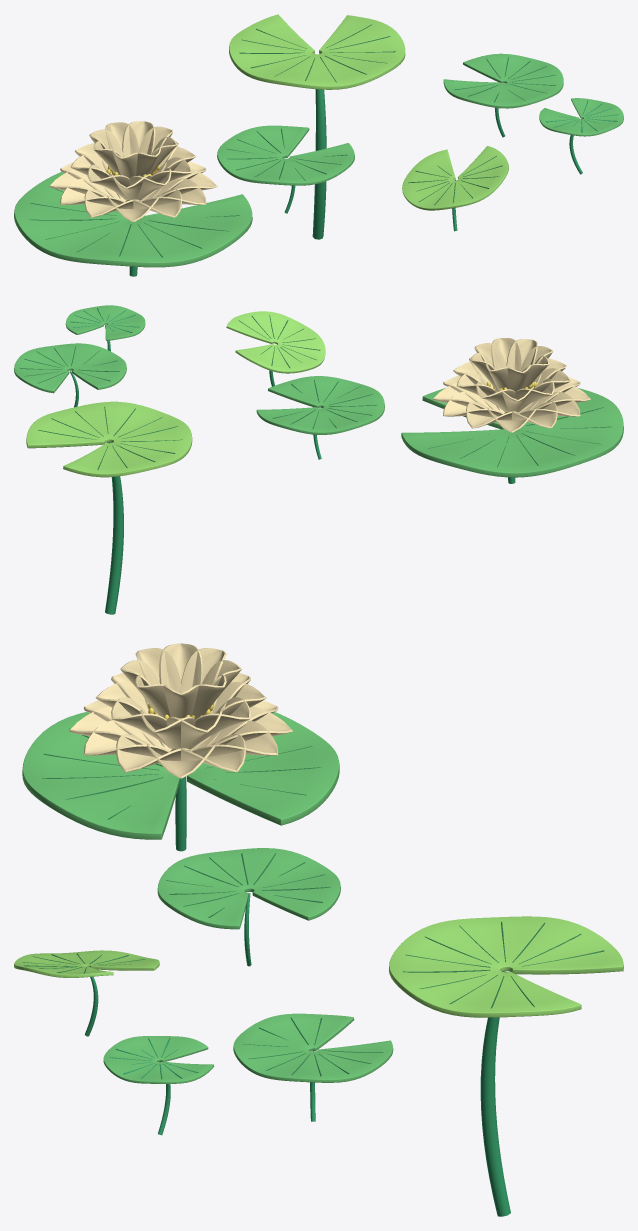
Rendered from 01_lotus_and_lilypads_004.glb.
3 renders of one model, top to bottom at view 1: azimuth 30°, elevation 25°; view 2: azimuth 150°, elevation 25°; view 3: azimuth 270°, elevation 25°, orthographic. The views are drawn at different scales.
Visible parts, largest first — view 1: LotusPad.006, LilyPad_02.004, LilyPad_01.009, LilyPad_03.004, LilyPad_04.007, LilyPad_05.005, PadStem_02.004, Lotus_Outer_Petal_11.004, Lotus_Outer_Petal_07.004, Lotus_Inner_Petal_02.004, Lotus_Outer_Petal_08.004, Lotus_Outer_Petal_10.004 (+15 smaller); view 2: LotusPad.006, LilyPad_02.004, LilyPad_01.009, LilyPad_04.007, LilyPad_03.004, LilyPad_05.005, PadStem_02.004, Lotus_Outer_Petal_03.004, Lotus_Outer_Petal_07.004, Lotus_Inner_Petal_08.004, Lotus_Outer_Petal_04.004, Lotus_Outer_Petal_06.004 (+6 smaller); view 3: LotusPad.006, LilyPad_02.004, LilyPad_01.009, LilyPad_03.004, LilyPad_05.005, PadStem_02.004, LilyPad_04.007, Lotus_Outer_Petal_11.004, Lotus_Outer_Petal_03.004, Lotus_Inner_Petal_05.004, Lotus_Outer_Petal_02.004, Lotus_Outer_Petal_12.004 (+10 smaller).
Part boxes in pixels (bbox=[...]): LotusPad.006: bbox=[14, 172, 252, 267]; LilyPad_02.004: bbox=[229, 14, 405, 89]; LilyPad_01.009: bbox=[217, 125, 354, 185]; LilyPad_03.004: bbox=[443, 53, 563, 108]; LilyPad_04.007: bbox=[402, 146, 508, 210]; LilyPad_05.005: bbox=[539, 98, 623, 136]; PadStem_02.004: bbox=[312, 89, 326, 239]; Lotus_Outer_Petal_11.004: bbox=[142, 178, 206, 205]; Lotus_Outer_Petal_07.004: bbox=[60, 178, 124, 205]; Lotus_Inner_Petal_02.004: bbox=[122, 121, 155, 156]; Lotus_Outer_Petal_08.004: bbox=[84, 189, 140, 217]; Lotus_Outer_Petal_10.004: bbox=[125, 189, 181, 217]; LotusPad.006: bbox=[401, 388, 623, 477]; LilyPad_02.004: bbox=[26, 401, 192, 477]; LilyPad_01.009: bbox=[256, 376, 384, 434]; LilyPad_04.007: bbox=[226, 311, 325, 373]; LilyPad_03.004: bbox=[14, 343, 126, 393]; LilyPad_05.005: bbox=[65, 305, 145, 340]; PadStem_02.004: bbox=[105, 442, 123, 614]; Lotus_Outer_Petal_03.004: bbox=[443, 391, 503, 417]; Lotus_Outer_Petal_07.004: bbox=[519, 391, 580, 417]; Lotus_Inner_Petal_08.004: bbox=[491, 338, 522, 371]; Lotus_Outer_Petal_04.004: bbox=[466, 401, 519, 428]; Lotus_Outer_Petal_06.004: bbox=[504, 401, 557, 428]; LotusPad.006: bbox=[22, 712, 339, 839]; LilyPad_02.004: bbox=[388, 916, 623, 1017]; LilyPad_01.009: bbox=[157, 848, 340, 929]; LilyPad_03.004: bbox=[233, 1013, 393, 1082]; LilyPad_05.005: bbox=[103, 1036, 214, 1083]; PadStem_02.004: bbox=[480, 971, 510, 1216]; LilyPad_04.007: bbox=[14, 950, 159, 977]; Lotus_Outer_Petal_11.004: bbox=[83, 720, 169, 756]; Lotus_Outer_Petal_03.004: bbox=[192, 720, 278, 756]; Lotus_Inner_Petal_05.004: bbox=[159, 643, 202, 687]; Lotus_Outer_Petal_02.004: bbox=[170, 734, 245, 772]; Lotus_Outer_Petal_12.004: bbox=[116, 734, 191, 772].
Bounding box in the file's own units: 7.58 × 3.29 × 5.19.
